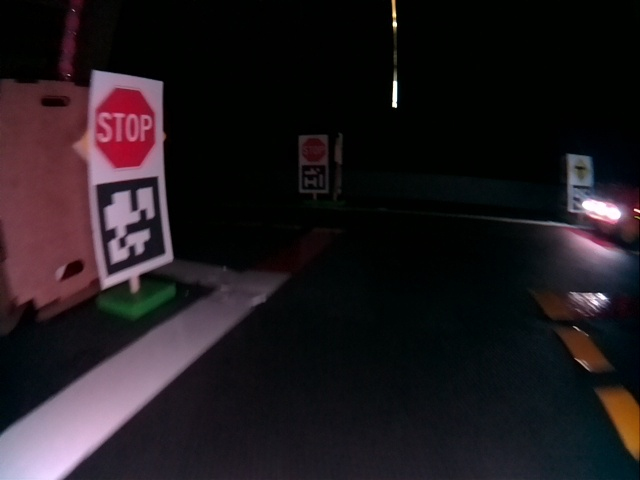Duckiebot: (592, 194, 636, 242)
Intersection sign: (570, 156, 591, 184)
QR code: (92, 176, 167, 275), (301, 168, 326, 190), (571, 186, 593, 211)
Stop sign: (91, 89, 157, 168), (301, 138, 325, 162)
